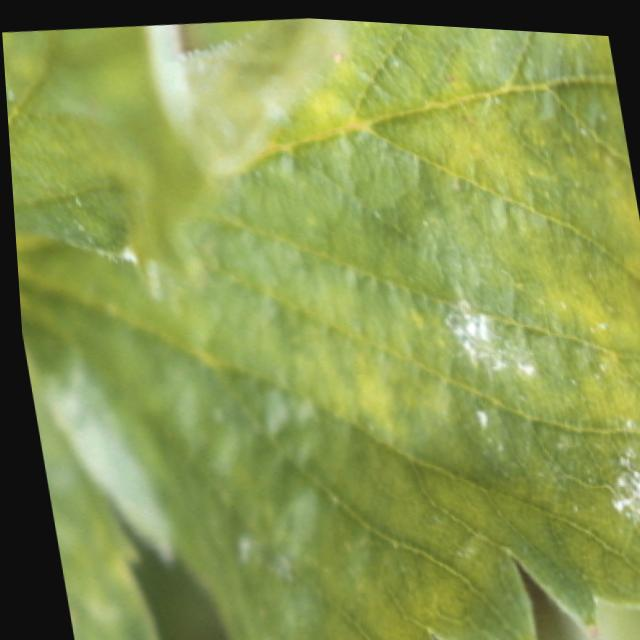Powdery Mildew Leaf: (13, 15, 640, 640)
